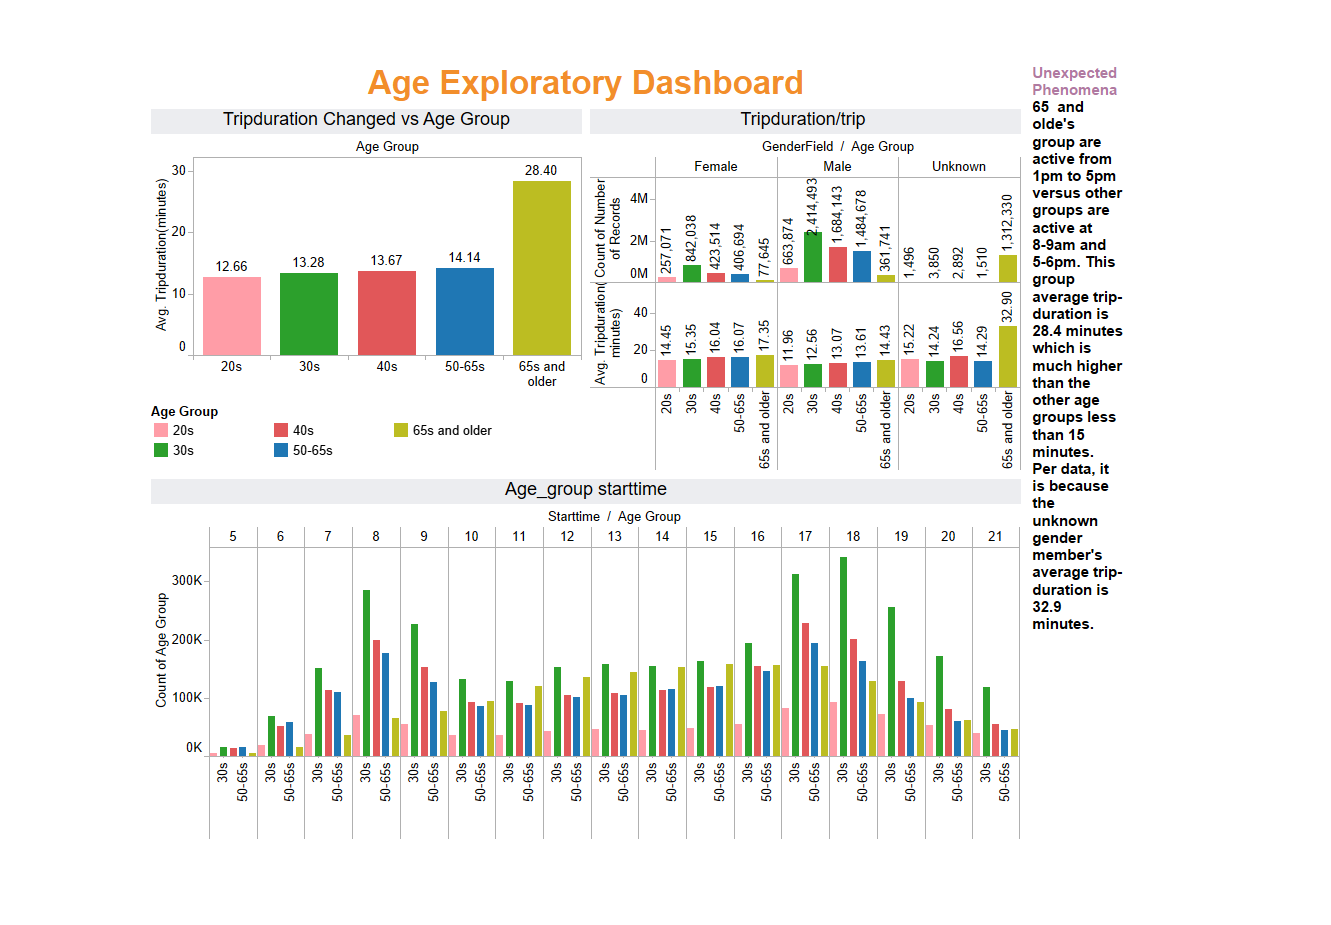

This screenshot's page, from the dashboard's own definition file:
{"tool":"tableau","page":{"name":"Age Exploratory Dashboard","canvas":[1000,800],"ordinal":0},"visuals":[{"type":"title","box":[8,8,824,45]},{"type":"filter","title":"Tripduration Changed vs Age Group","param":"[federated.1mewo8x06ns2is1c3jf3m0rmrl03].[Action (WEEKDAY(Stoptime))]","box":[832,8,160,206]},{"type":"worksheet","title":"Tripduration Changed vs Age Group","mark":"Automatic","rows":["Calculation_1046805465702531074"],"cols":["Calculation_579838478932131841"],"box":[8,53,412,294.5]},{"type":"worksheet","title":"Tripduration/trip ","mark":"Automatic","rows":["Number of Records","Calculation_1046805465702531074"],"cols":["Calculation_579838478923661312","Calculation_579838478932131841"],"box":[420,53,412,369.5]},{"type":"filter","title":"Tripduration/trip ","param":"[federated.1mewo8x06ns2is1c3jf3m0rmrl03].[none:Calculation_579838478923661312:nk","box":[832,214,160,118]},{"type":"filter","title":"Tripduration/trip ","param":"[federated.1mewo8x06ns2is1c3jf3m0rmrl03].[Action (Age Group)]","box":[832,332,160,55]},{"type":"legend","title":"Tripduration Changed vs Age Group","param":"[federated.1mewo8x06ns2is1c3jf3m0rmrl03].[none:Calculation_579838478932131841:nk","box":[8,347.5,412,75]},{"type":"filter","title":"Age_group starttime","param":"[federated.1mewo8x06ns2is1c3jf3m0rmrl03].[Action (MONTH(Stoptime))]","box":[832,387,160,55]},{"type":"worksheet","title":"Age_group starttime","mark":"Bar","rows":["Calculation_579838478932131841"],"cols":["starttime","Calculation_579838478932131841"],"box":[8,422.5,824,369.5]},{"type":"text","box":[832,442,160,350]}]}

Visuals, with their boxes on the page's 1000x800 design canvas (x1, y1, x2, y2). These are canvas units, not pixel positions in the 1331x925 screenshot, which may show the page scaled, cropped or inside an application window:
title: <box>8,8,832,53</box>
"Tripduration Changed vs Age Group" filter: <box>832,8,992,214</box>
"Tripduration Changed vs Age Group" worksheet: <box>8,53,420,348</box>
"Tripduration/trip " worksheet: <box>420,53,832,422</box>
"Tripduration/trip " filter: <box>832,214,992,332</box>
"Tripduration/trip " filter: <box>832,332,992,387</box>
"Tripduration Changed vs Age Group" legend: <box>8,348,420,422</box>
"Age_group starttime" filter: <box>832,387,992,442</box>
"Age_group starttime" worksheet (Bar marks): <box>8,422,832,792</box>
text: <box>832,442,992,792</box>
